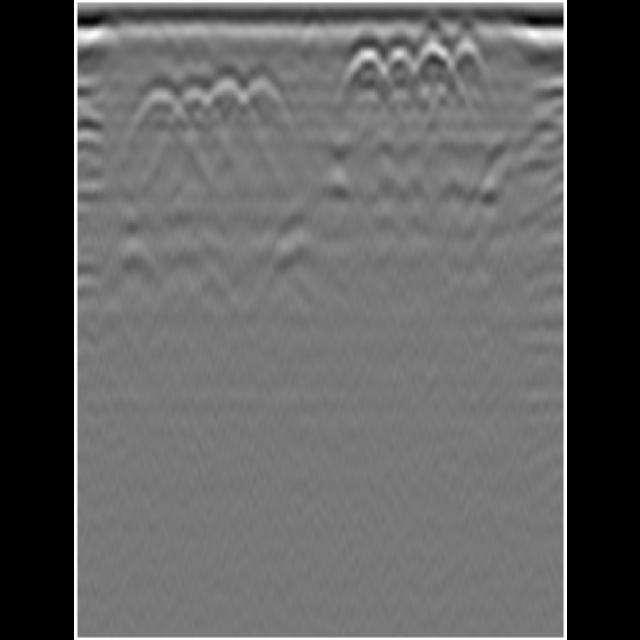hyperbola: (235, 69, 288, 121), (128, 86, 174, 142), (337, 44, 388, 94), (203, 74, 250, 124), (171, 89, 215, 137), (409, 36, 451, 84), (376, 41, 420, 83), (451, 36, 481, 80)
